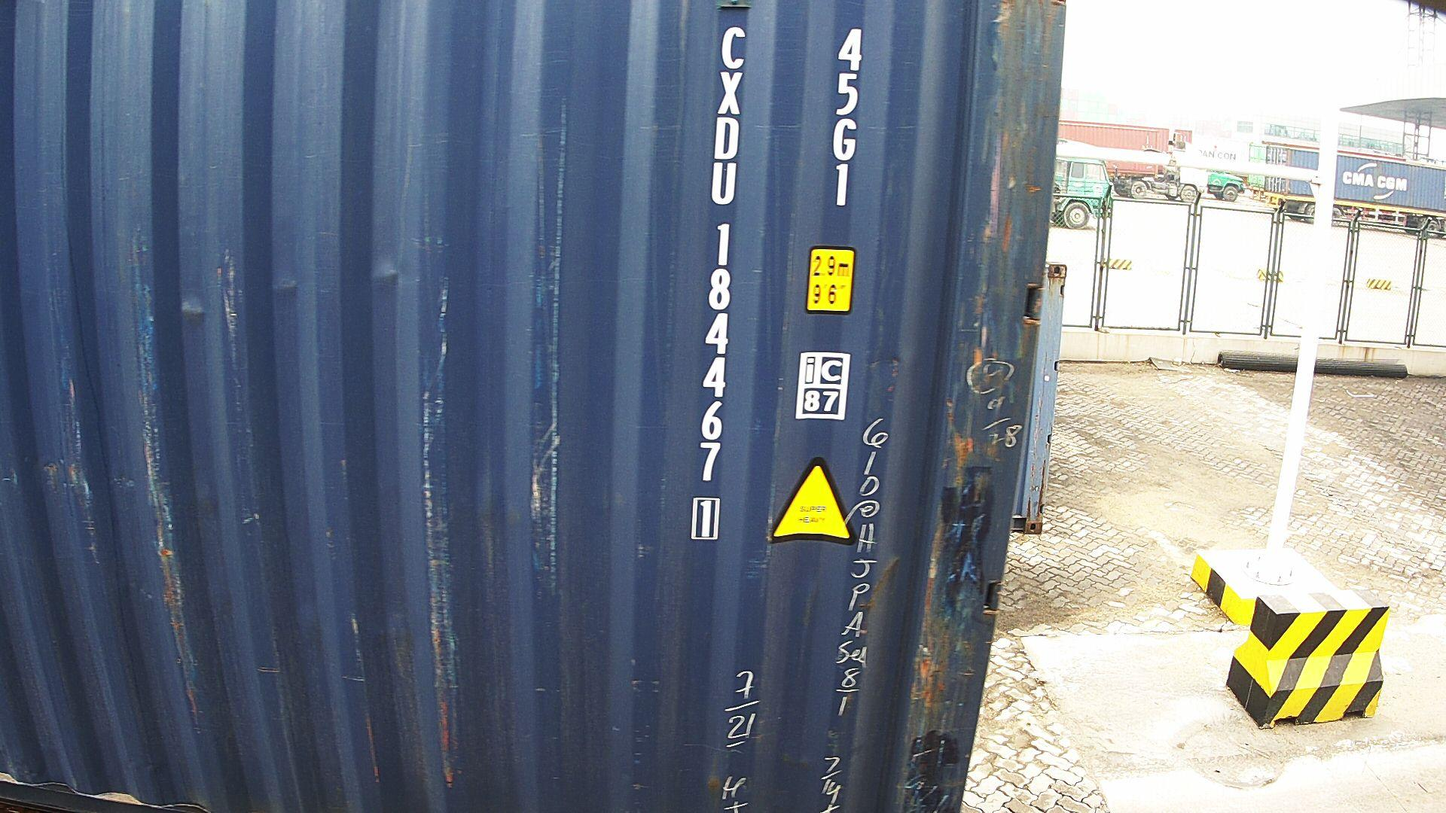container-numbers: (686, 19, 747, 550), (822, 24, 871, 216)
